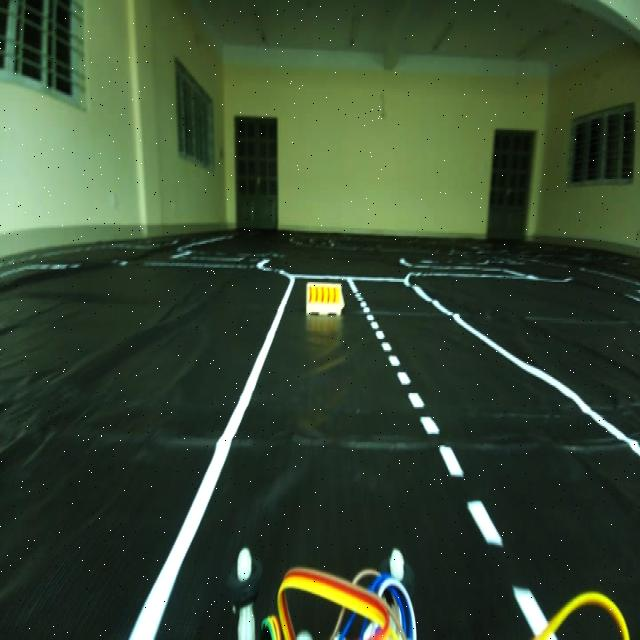roadblock: (296, 274, 350, 323)
